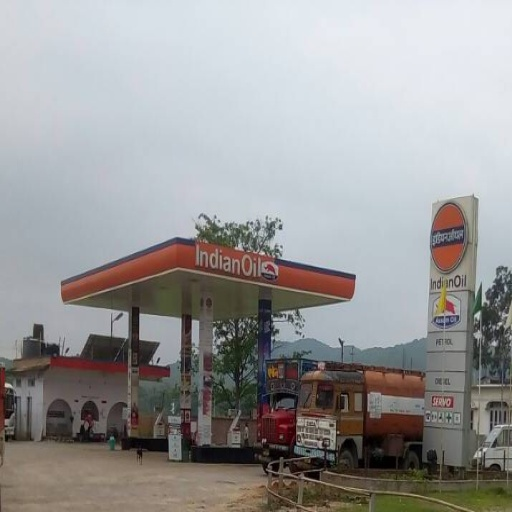roof: (62, 238, 356, 315)
